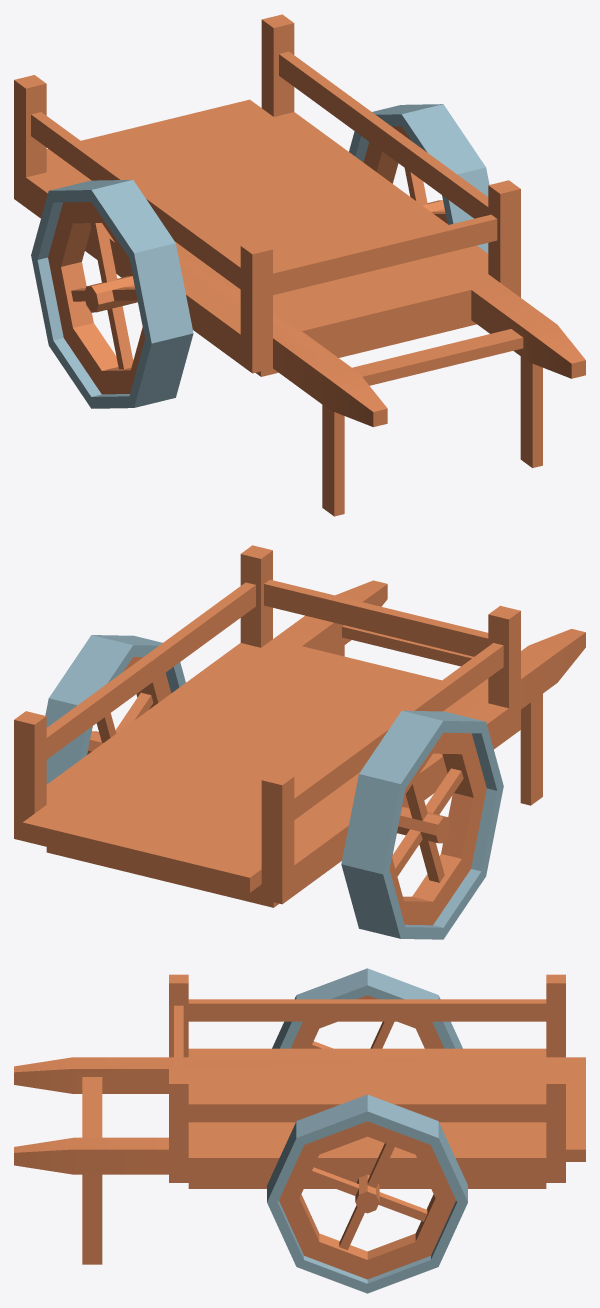
Rendered from d_kenney_charrette.glb.
3 renders of one model, top to bottom at view 1: azimuth 30°, elevation 25°; view 2: azimuth 150°, elevation 25°; view 3: azimuth 270°, elevation 25°, orthographic. The views are drawn at different scales.
Visible parts, largest first — view 1: d_kenney_charrette; view 2: d_kenney_charrette; view 3: d_kenney_charrette.
Part boxes in pixels (left/top/right/bottom): d_kenney_charrette: left=14, top=14, right=585, bottom=516; d_kenney_charrette: left=14, top=545, right=585, bottom=939; d_kenney_charrette: left=14, top=968, right=585, bottom=1293.
Bounding box in the file's own units: 0.8525 × 0.5355 × 1.44.
1 material, 1 textured.
